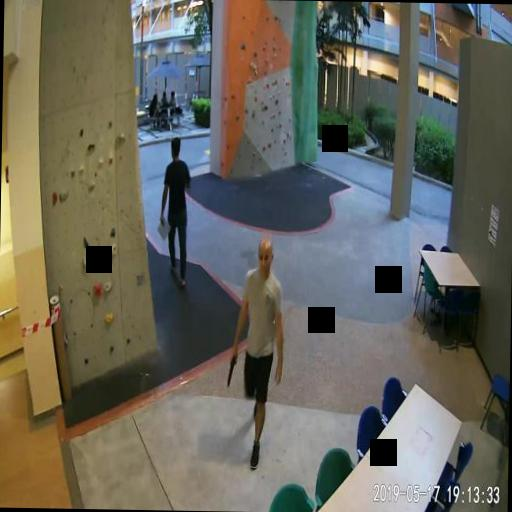Handgun: (226, 350, 238, 384)
